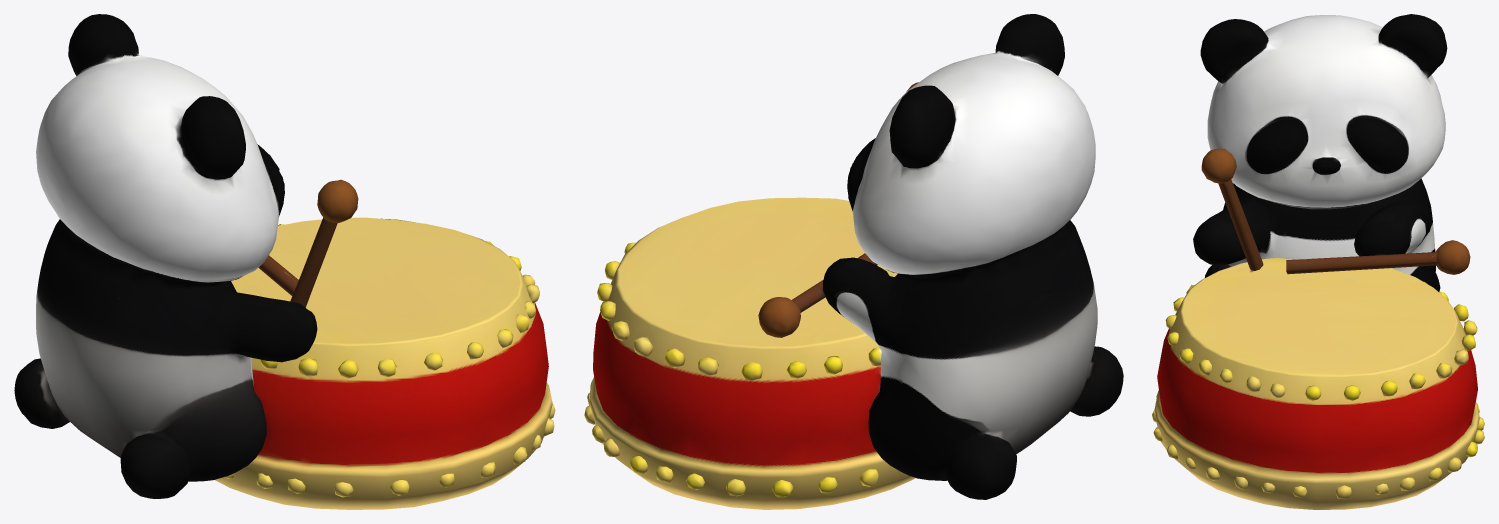
File: PandaTaikoDrummer_3e9c28c0.glb
3 renders of one model, left to right at view 1: azimuth 30°, elevation 25°; view 2: azimuth 150°, elevation 25°; view 3: azimuth 270°, elevation 25°, orthographic. The views are drawn at different scales.
Visible parts, largest first — view 1: tripo_node_58533662-fe08-4309-9249-bfef3e9c28c0; view 2: tripo_node_58533662-fe08-4309-9249-bfef3e9c28c0; view 3: tripo_node_58533662-fe08-4309-9249-bfef3e9c28c0.
Boxes of the visible parts, x1=… form: tripo_node_58533662-fe08-4309-9249-bfef3e9c28c0: x1=14, y1=14, x2=555, y2=509; tripo_node_58533662-fe08-4309-9249-bfef3e9c28c0: x1=584, y1=14, x2=1123, y2=509; tripo_node_58533662-fe08-4309-9249-bfef3e9c28c0: x1=1152, y1=14, x2=1484, y2=509.
Bounding box in the file's own units: 0.998 × 0.9082 × 0.7598.
Materials: 1 (1 with a texture image).
